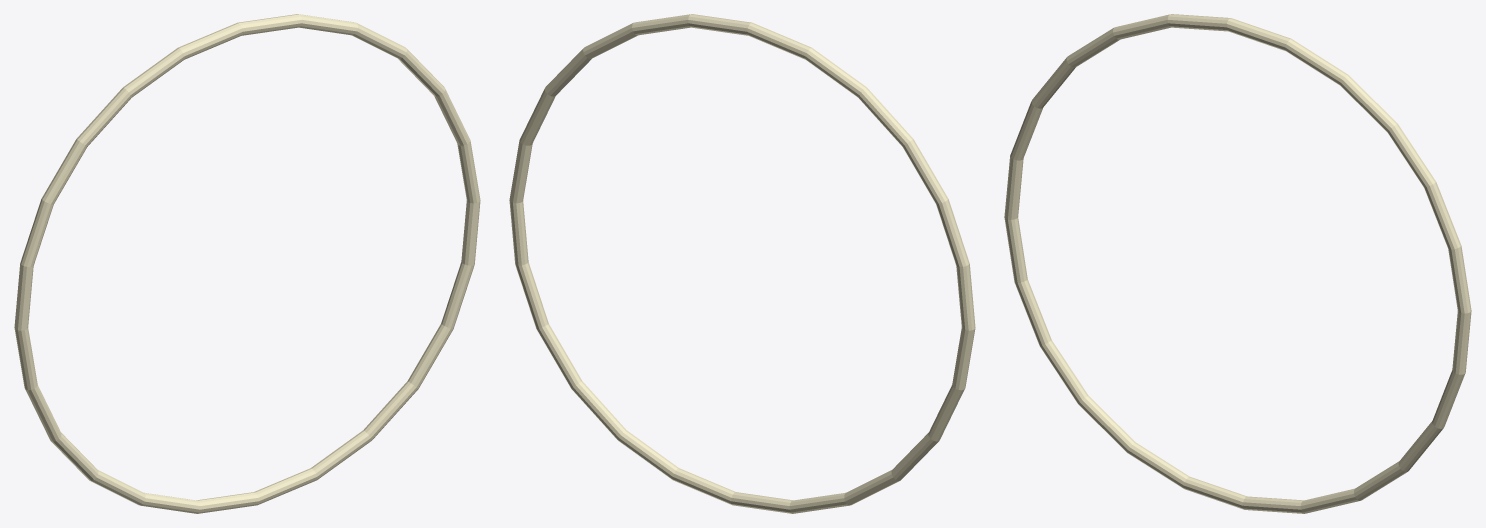
The picture shows the model from 3 angles, left to right: view 1: azimuth 30°, elevation 25°; view 2: azimuth 150°, elevation 25°; view 3: azimuth 330°, elevation 25°; orthographic projection.
Visible parts, largest first — view 1: z; view 2: z; view 3: z.
Boxes of the visible parts, x1,y1,x2,y2 form: z: (14,14,480,513); z: (509,14,975,513); z: (1004,14,1471,513).
Size of the model in its own units: 2 by 0.0514 by 2.
